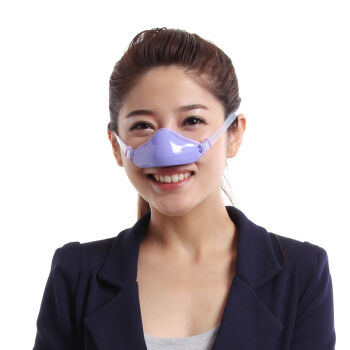face_mask: (117, 73, 224, 218)
